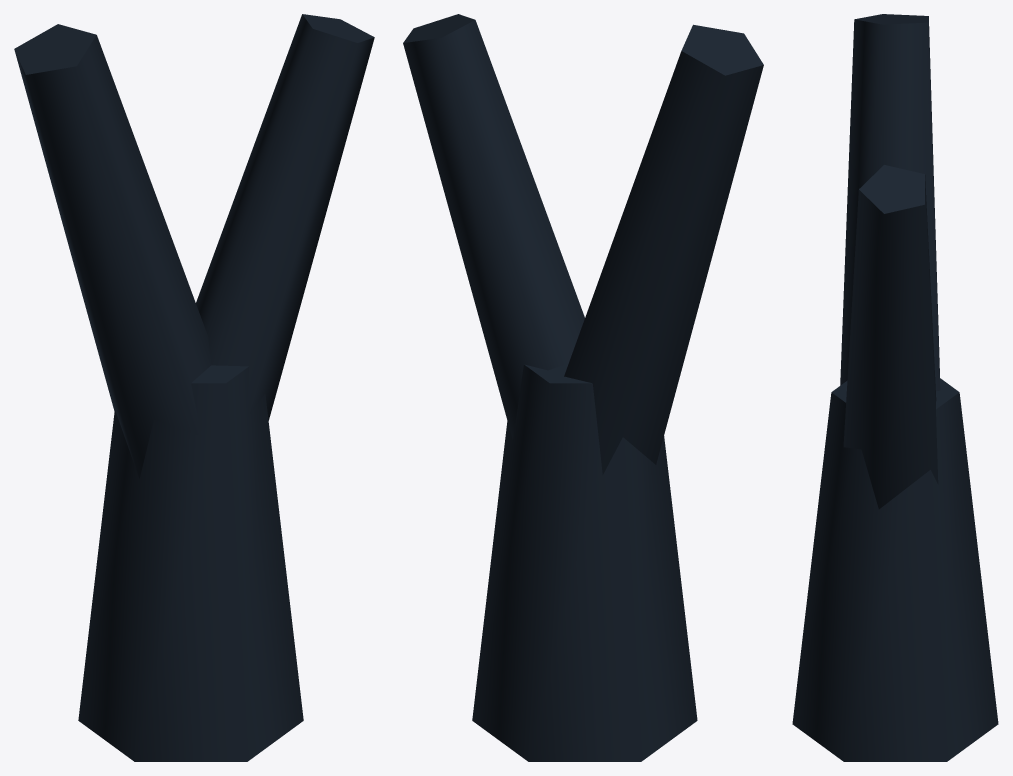
Rendered from dead_tree_b.glb.
3 views of the same model, side by side, from view 1: azimuth 30°, elevation 25°; view 2: azimuth 150°, elevation 25°; view 3: azimuth 270°, elevation 25° (orthographic). The views are drawn at different scales.
Bounding box in the file's own units: 1.61 × 3.15 × 0.9.
